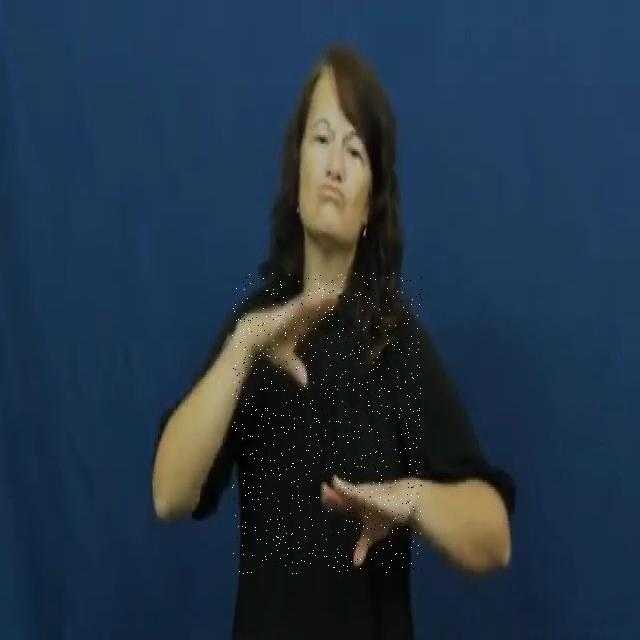enjoy: (232, 273, 422, 574)
